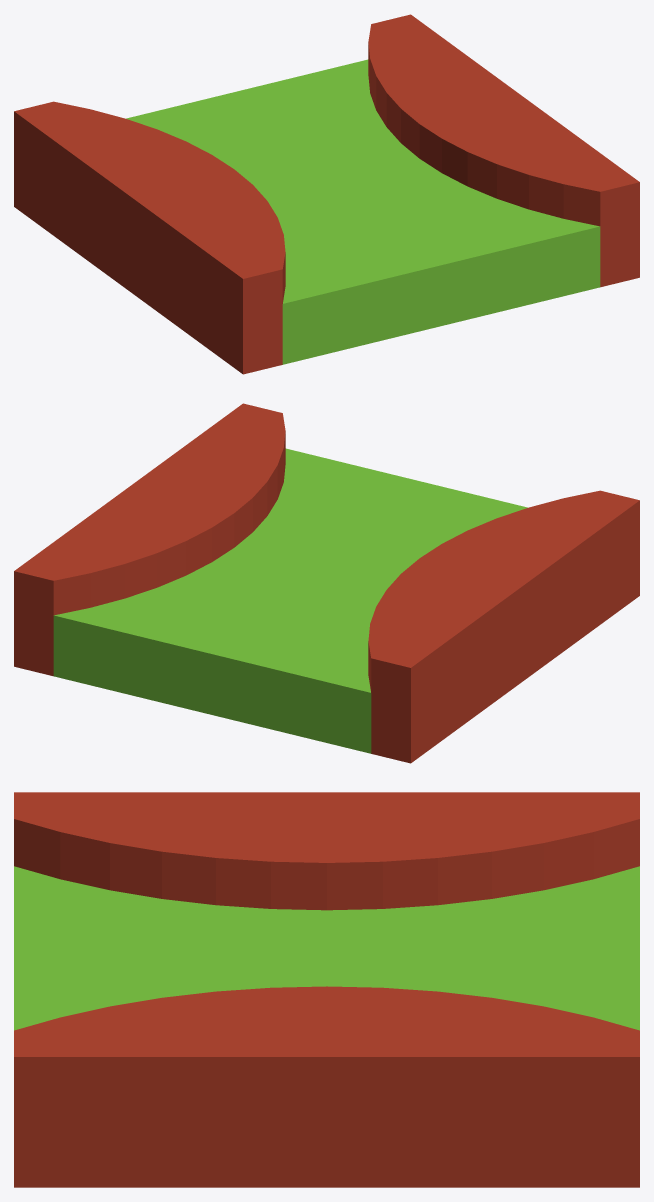
Rendered from Narrow_Round.FBX.
3 renders of one model, top to bottom at view 1: azimuth 30°, elevation 25°; view 2: azimuth 150°, elevation 25°; view 3: azimuth 270°, elevation 25°, orthographic. The views are drawn at different scales.
Visible parts, largest first — view 1: Walls, Narrow_round_01; view 2: Walls, Narrow_round_01; view 3: Walls, Narrow_round_01.
Part boxes in pixels (x1,y1,x2,y2): Walls: [14, 14, 639, 374]; Narrow_round_01: [126, 59, 600, 364]; Walls: [14, 403, 639, 763]; Narrow_round_01: [53, 448, 527, 753]; Walls: [14, 792, 639, 1187]; Narrow_round_01: [14, 866, 639, 1030].
Size of the model in its own units: 0.9999 by 0.9999 by 0.23.
